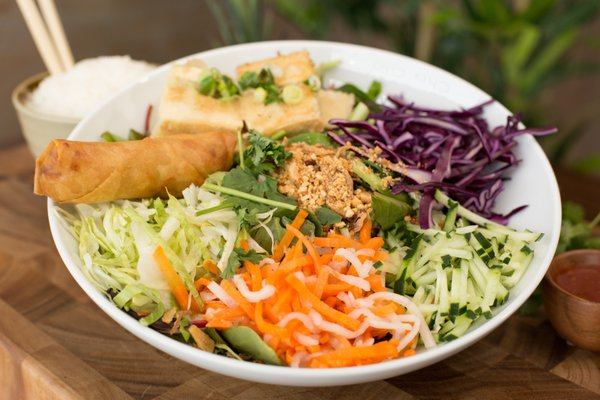sushi: (38, 43, 562, 388), (45, 129, 534, 391), (10, 56, 161, 159), (541, 248, 600, 355)
